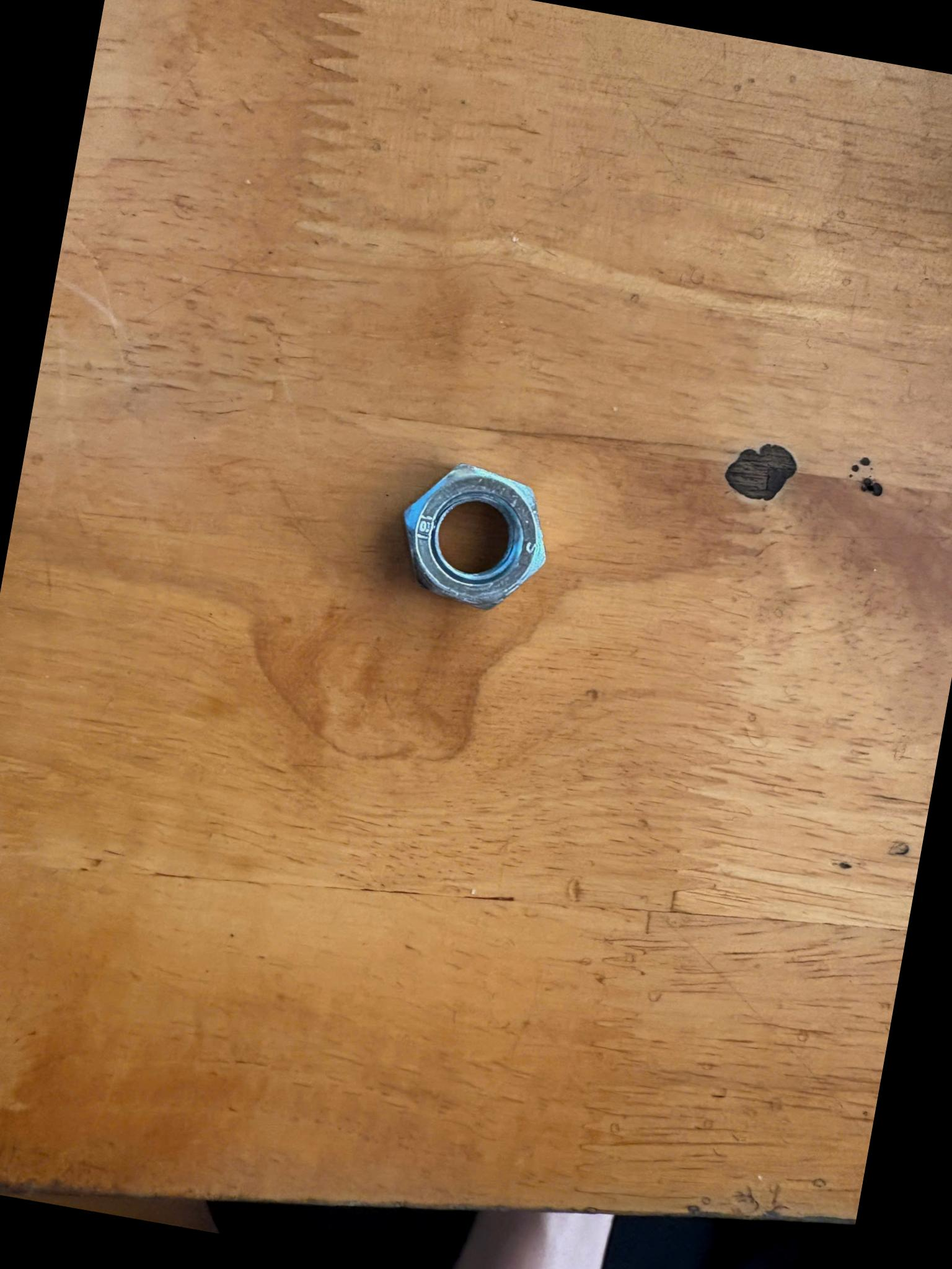nut: (346, 431, 571, 638)
